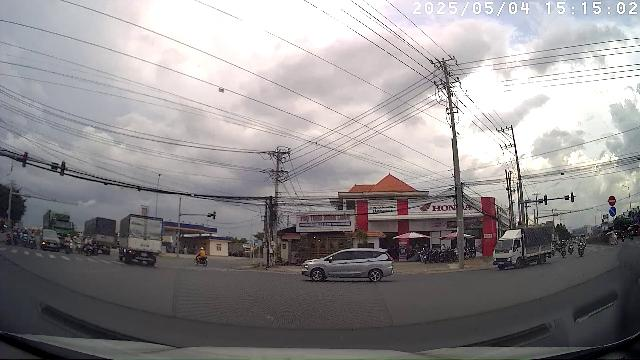102-cam-di-nguoc-chieu: (608, 195, 616, 205)
302a-huong-phai-di-vong-chuong-ngai-vat-1: (610, 206, 616, 216)
